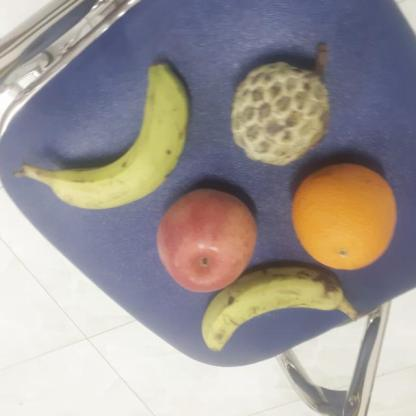annona: (227, 59, 335, 169)
apple: (155, 187, 262, 298)
banana: (43, 61, 193, 212), (200, 264, 347, 358)
orange: (291, 163, 400, 272)
